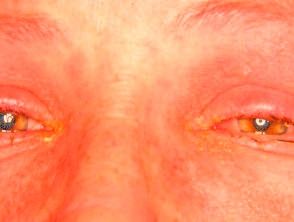SJS-TEN: (184, 110, 285, 157), (34, 101, 71, 153)
